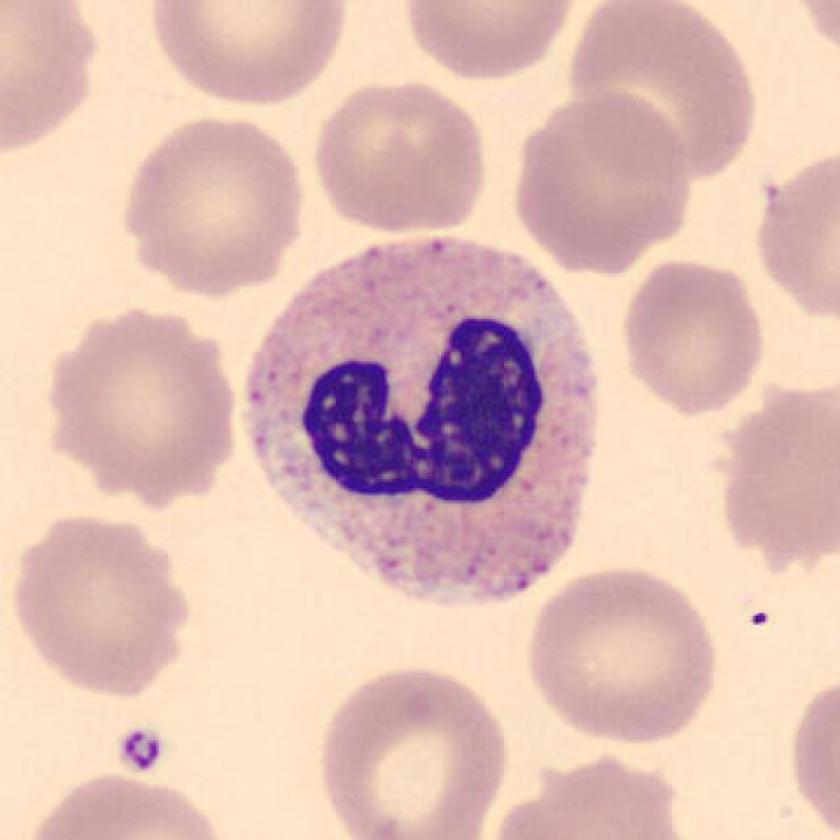neutrophil: (245, 239, 596, 604)
